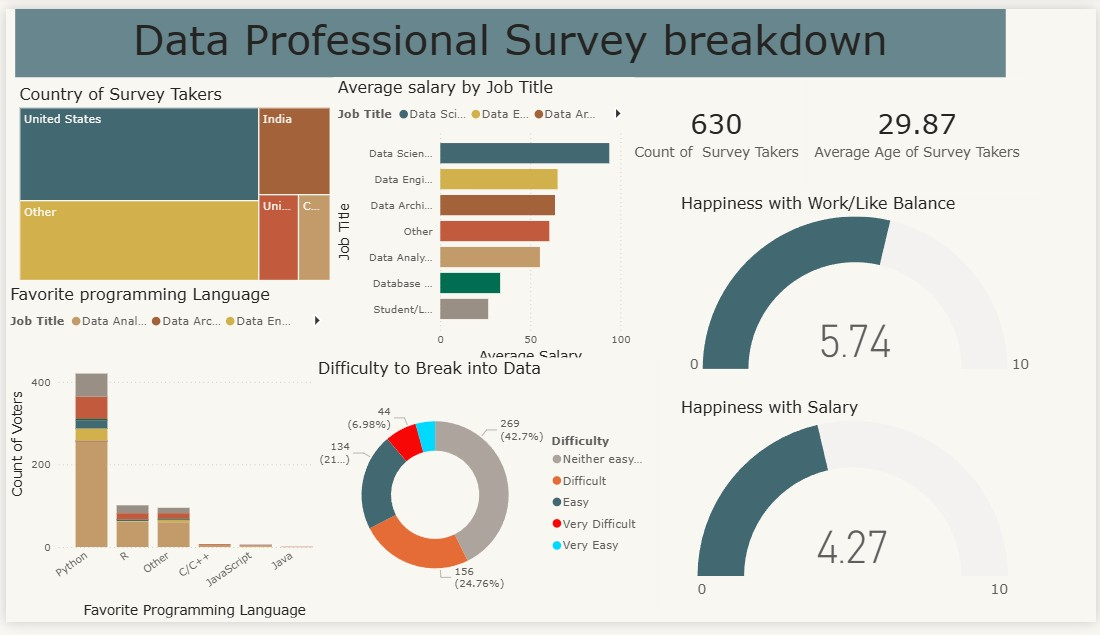

The dashboard page shown, as its layout file describes it:
{"tool":"powerbi","page":{"name":"Page 1","canvas":[1280,720],"ordinal":0},"visuals":[{"type":"textbox","box":[10.5,0,1163.2,80],"z":0},{"type":"card","fields":{"Values":["Count(Data Professional Survey.Unique ID)"]},"box":[726.3,81.1,215.8,124.2],"z":1000},{"type":"card","fields":{"Values":["Avg(Data Professional Survey.Q10 - Current Age)"]},"box":[942.1,81.1,255.8,124.2],"z":2000},{"type":"columnChart","title":"Favorite programming Language","fields":{"Category":["Data Professional Survey.Q5 - Favorite Programming Language.1"],"Y":["CountNonNull(Data Professional Survey.Q5 - Favorite Programming Language.1)"],"Series":["Data Professional Survey.Q1 - Which Title Best Fits your Current Role?.1"]},"box":[0,323.2,385.3,396.8],"z":3000},{"type":"barChart","title":"Average salary by Job Title","fields":{"Category":["Data Professional Survey.Q1 - Which Title Best Fits your Current Role?.1"],"Y":["Avg(Data Professional Survey.Average Salary)"],"Series":["Data Professional Survey.Q1 - Which Title Best Fits your Current Role?.1"]},"box":[385.3,80,353.7,341.1],"z":4000},{"type":"gauge","title":"Happiness with Salary","fields":{"Y":["Avg(Data Professional Survey.Q6 - How Happy are you in your Current Position with the following? (Salary))"],"MinValue":["Min(Data Professional Survey.Q6 - How Happy are you in your Current Position with the following? (Salary))"],"MaxValue":["Max(Data Professional Survey.Q6 - How Happy are you in your Current Position with the following? (Salary))"]},"box":[787.4,455.8,412.6,244.2],"z":5000},{"type":"gauge","title":"Happiness with Work/Like Balance","fields":{"Y":["Avg(Data Professional Survey.Q6 - How Happy are you in your Current Position with the following? (Work/Life Balance))"],"MinValue":["Min(Data Professional Survey.Q6 - How Happy are you in your Current Position with the following? (Work/Life Balance))"],"MaxValue":["Max(Data Professional Survey.Q6 - How Happy are you in your Current Position with the following? (Work/Life Balance))"]},"box":[787.4,214.7,428.4,216.8],"z":6000},{"type":"donutChart","title":"Difficulty to Break into Data","fields":{"Category":["Data Professional Survey.Q7 - How difficult was it for you to break into Data?"],"Y":["CountNonNull(Data Professional Survey.Q7 - How difficult was it for you to break into Data?)"]},"box":[361.1,409.5,402.1,298.9],"z":7000},{"type":"treemap","title":"Country of Survey Takers","fields":{"Group":["Data Professional Survey.Q11 - Which Country do you live in?.1"],"Values":["CountNonNull(Data Professional Survey.Q11 - Which Country do you live in?.1)"]},"box":[10.5,87.4,374.7,235.8],"z":8000}]}

Visuals, with their boxes in screenshot pixels (x1, y1, x2, y2), scaled from the page's 1280x720 canvas onto the 1100x635 screenshot:
textbox: select_region(9, 0, 1009, 71)
card - Count(Data Professional Survey.Unique ID): select_region(624, 72, 810, 181)
card - Avg(Data Professional Survey.Q10 - Current Age): select_region(810, 72, 1029, 181)
"Favorite programming Language" columnChart: select_region(0, 285, 331, 634)
"Average salary by Job Title" barChart: select_region(331, 71, 635, 371)
"Happiness with Salary" gauge: select_region(677, 402, 1031, 617)
"Happiness with Work/Like Balance" gauge: select_region(677, 189, 1045, 381)
"Difficulty to Break into Data" donutChart: select_region(310, 361, 656, 625)
"Country of Survey Takers" treemap: select_region(9, 77, 331, 285)
